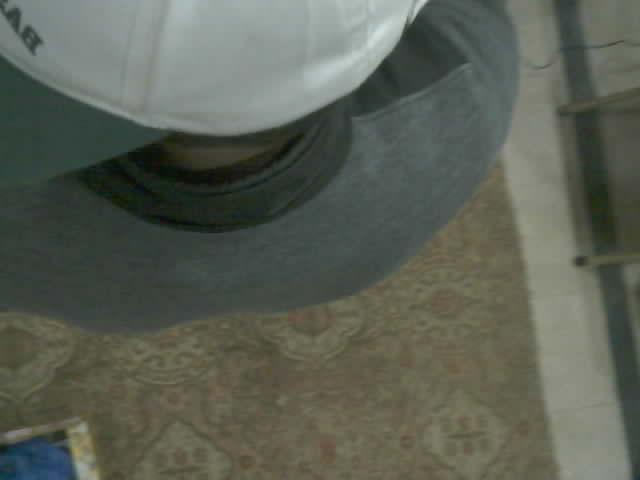cap: (0, 0, 428, 187), (0, 0, 428, 183)
